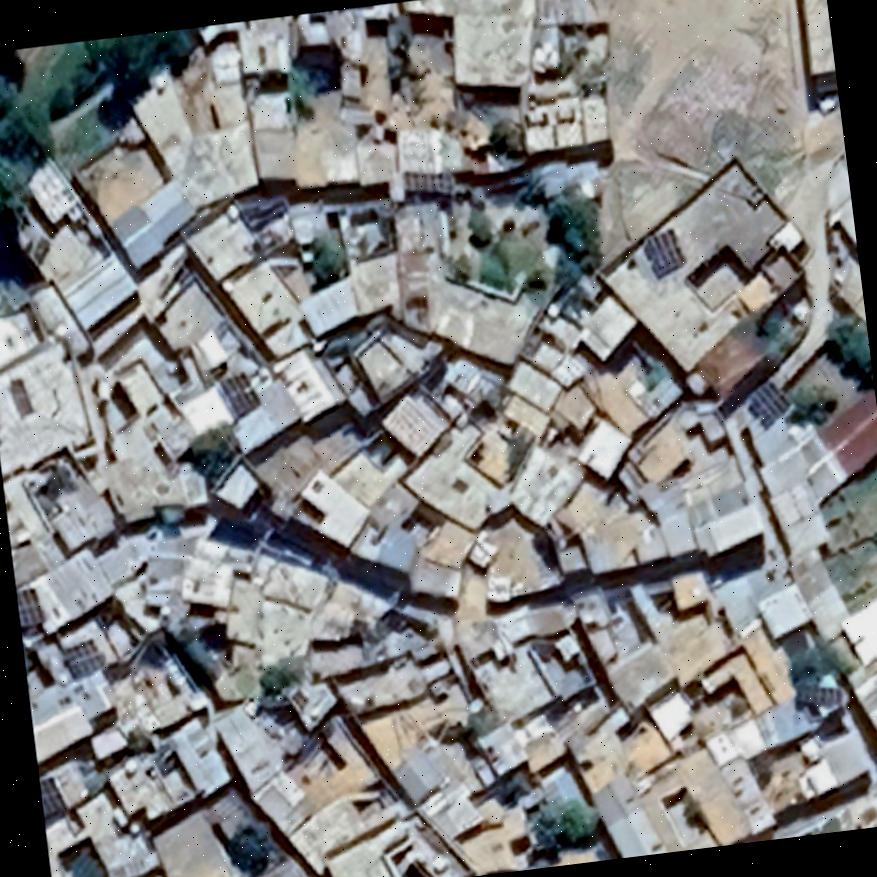Solarpanel: (742, 375, 794, 431), (636, 223, 686, 279), (215, 369, 263, 423), (56, 636, 108, 680), (38, 770, 68, 820), (15, 582, 46, 630)
